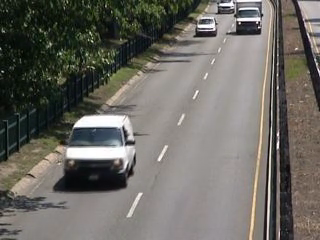car: (195, 16, 220, 37), (216, 1, 236, 15)
truck: (59, 113, 142, 190), (236, 1, 265, 37)
